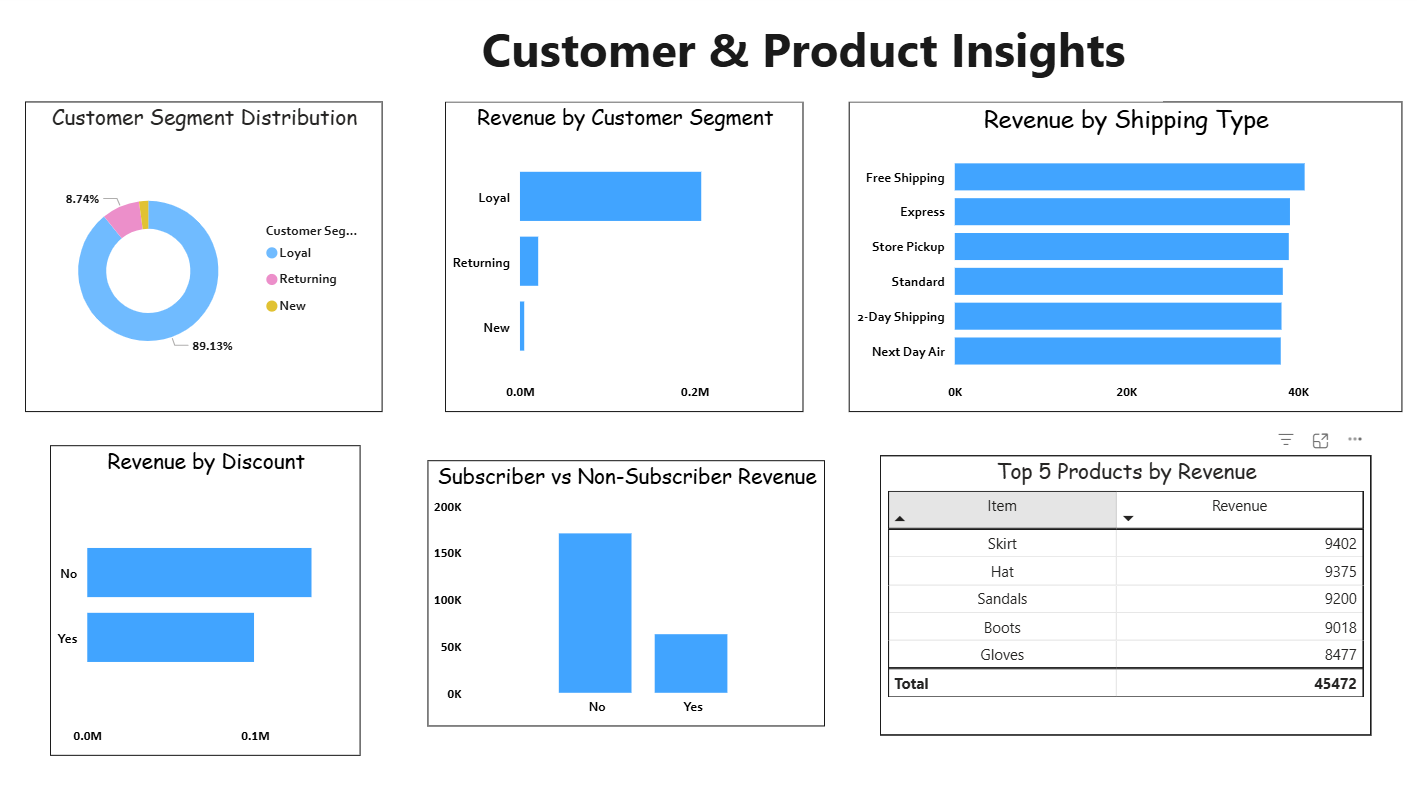

What the dashboard file says about the page in this screenshot:
{"tool":"powerbi","page":{"name":"Page 2","canvas":[1280,720],"ordinal":1},"visuals":[{"type":"donutChart","title":" Customer Segment Distribution","fields":{"Category":["customer.Customer Segment"],"Y":["customer.Number of customer"]},"box":[22.4,97,322.2,279.9],"z":0},{"type":"clusteredBarChart","title":"Revenue by Customer Segment","fields":{"Y":["customer.Total Revenue"],"Category":["customer.Customer Segment"]},"box":[401.8,97,323.4,279.9],"z":1000},{"type":"barChart","title":"Revenue by Shipping Type","fields":{"Category":["customer.shipping_type"],"Y":["customer.Total Revenue"]},"box":[765,97,498.8,279.9],"z":2000},{"type":"clusteredBarChart","title":"Revenue by Discount ","fields":{"Category":["customer.discount_applied"],"Y":["customer.Total Revenue"]},"box":[44.8,406.8,279.9,279.9],"z":3000},{"type":"clusteredColumnChart","title":"Subscriber vs Non-Subscriber Revenue","fields":{"Category":["customer.subscription_status"],"Y":["Sum(customer.purchase_amount)"]},"box":[385.6,420.5,358.3,240.1],"z":4000},{"type":"tableEx","title":"Top 5 Products by Revenue","fields":{"Values":["customer.item_purchased","Sum(customer.purchase_amount)"]},"box":[793.6,415.5,442.8,252.5],"z":5000},{"type":"textbox","box":[401.8,14.9,646.9,82.1],"z":6000}]}

Visuals, with their boxes in screenshot pixels (x1, y1, x2, y2), scaled from the page's 1280x720 canvas onto the 1417x788 screenshot:
" Customer Segment Distribution" donutChart: (x1=25, y1=106, x2=381, y2=412)
"Revenue by Customer Segment" clusteredBarChart: (x1=445, y1=106, x2=803, y2=412)
"Revenue by Shipping Type" barChart: (x1=847, y1=106, x2=1399, y2=412)
"Revenue by Discount " clusteredBarChart: (x1=50, y1=445, x2=359, y2=752)
"Subscriber vs Non-Subscriber Revenue" clusteredColumnChart: (x1=427, y1=460, x2=824, y2=723)
"Top 5 Products by Revenue" tableEx: (x1=879, y1=455, x2=1369, y2=731)
textbox: (x1=445, y1=16, x2=1161, y2=106)
